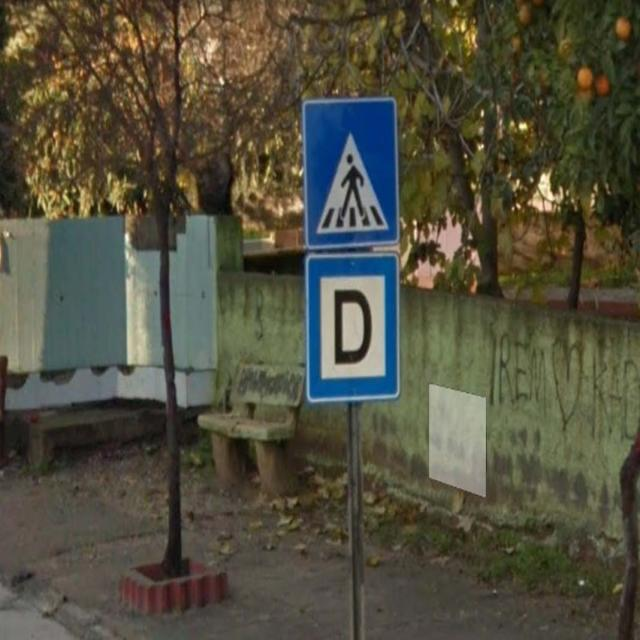durak: (305, 253, 400, 399)
